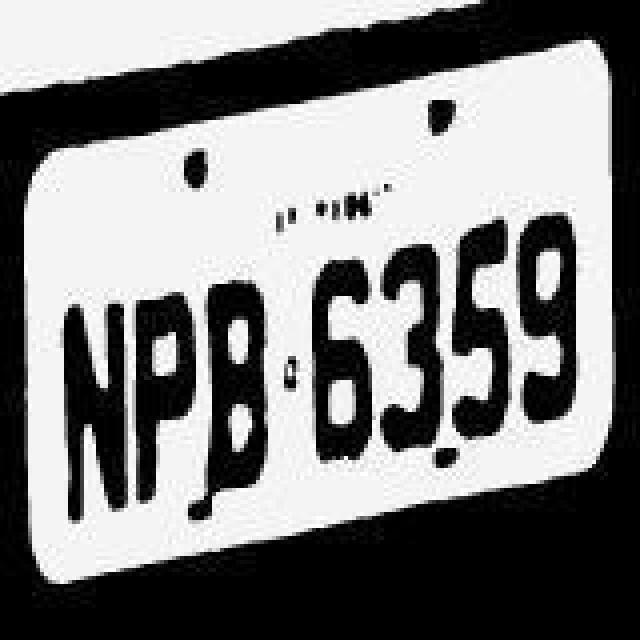3: (376, 232, 448, 456)
5: (446, 208, 514, 448)
6: (302, 244, 378, 476)
9: (516, 208, 588, 440)
B: (202, 268, 278, 492)
N: (48, 258, 128, 526)
P: (134, 252, 202, 516)
